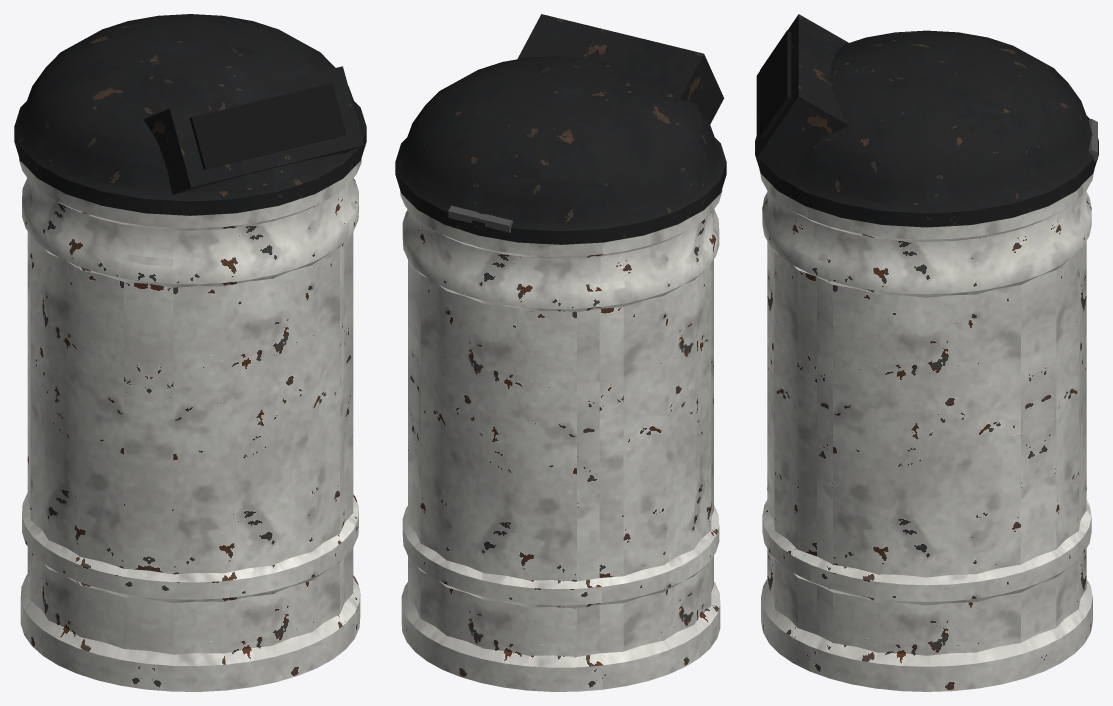
File: trash-can.glb
3 renders of one model, left to right at view 1: azimuth 30°, elevation 25°; view 2: azimuth 150°, elevation 25°; view 3: azimuth 270°, elevation 25°, orthographic. The views are drawn at different scales.
Visible parts, largest first — view 1: trash_can; view 2: trash_can; view 3: trash_can.
Part boxes in pixels (bbox=[...]): trash_can: bbox=[14, 14, 366, 691]; trash_can: bbox=[395, 14, 726, 691]; trash_can: bbox=[755, 14, 1098, 691].
Size of the model in its own units: 0.55 by 1 by 0.55.
Materials: 4 (2 with a texture image).
